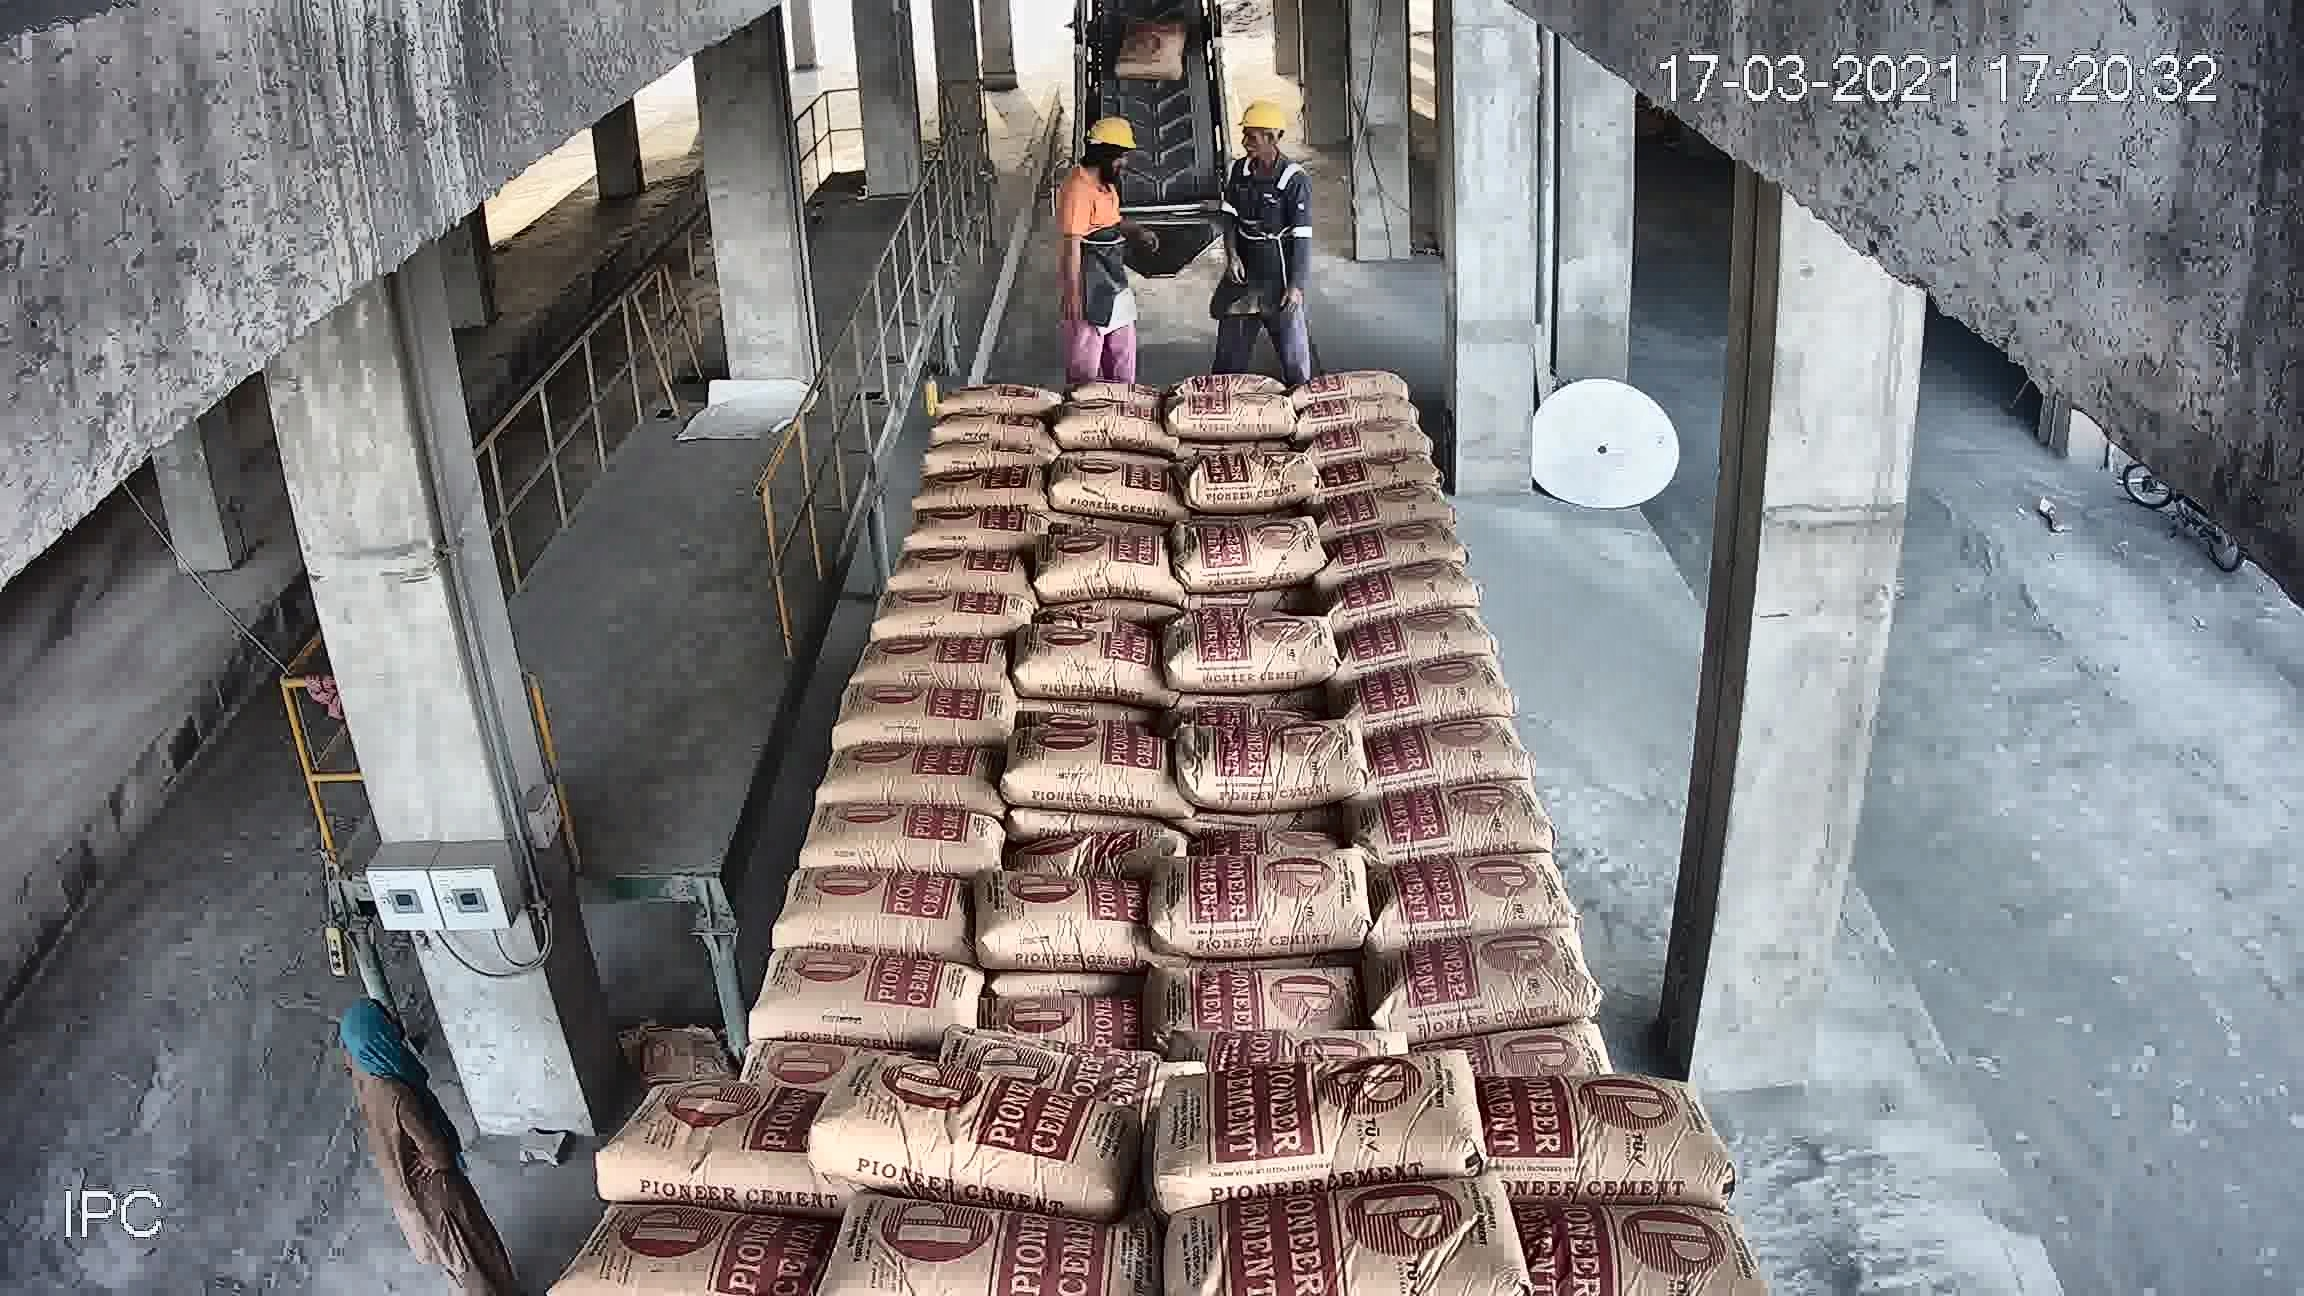bag: (1095, 457, 1211, 623), (1078, 70, 1214, 206)
bag_h: (1119, 1051, 1492, 1223), (1160, 1147, 1529, 1296), (1100, 937, 1445, 1082), (766, 1071, 1169, 1193), (859, 945, 1165, 1089), (902, 801, 1161, 949), (1133, 820, 1416, 953), (1480, 1060, 1737, 1206), (630, 945, 867, 1090), (798, 1203, 1146, 1293), (592, 1079, 817, 1218), (1462, 956, 1676, 1089), (1492, 1204, 1779, 1296), (665, 855, 894, 968), (529, 1214, 823, 1296), (1431, 847, 1639, 959), (1003, 668, 1177, 747), (1362, 647, 1513, 729), (1021, 720, 1215, 782), (1364, 714, 1532, 780), (1407, 774, 1552, 843), (1378, 597, 1505, 676), (1059, 771, 1161, 866), (1016, 620, 1161, 669), (1353, 559, 1487, 609), (1336, 521, 1473, 565), (1340, 491, 1456, 540), (1353, 451, 1453, 491), (1351, 351, 1412, 386), (1339, 326, 1396, 361), (1359, 394, 1408, 427)
belt: (1016, 52, 1309, 567)
